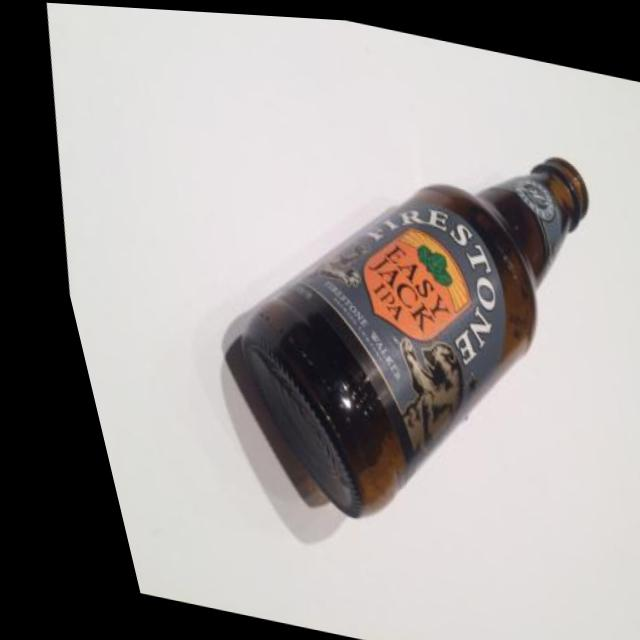glass: (105, 31, 640, 603)
